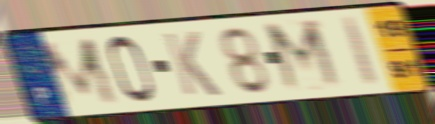0: (106, 33, 156, 105)
8: (218, 25, 271, 95)
I: (339, 14, 382, 88)
K: (160, 29, 224, 98)
M: (260, 17, 347, 95), (37, 35, 122, 111)
